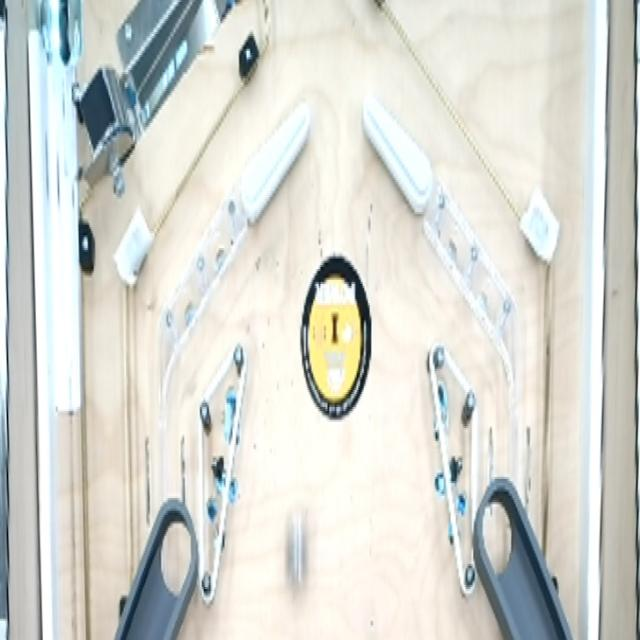ball: (278, 482, 318, 610)
flipper-left: (358, 86, 436, 231)
flipper-right: (236, 96, 317, 230)
